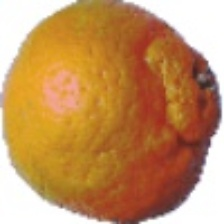tangerine: (23, 16, 192, 203)
